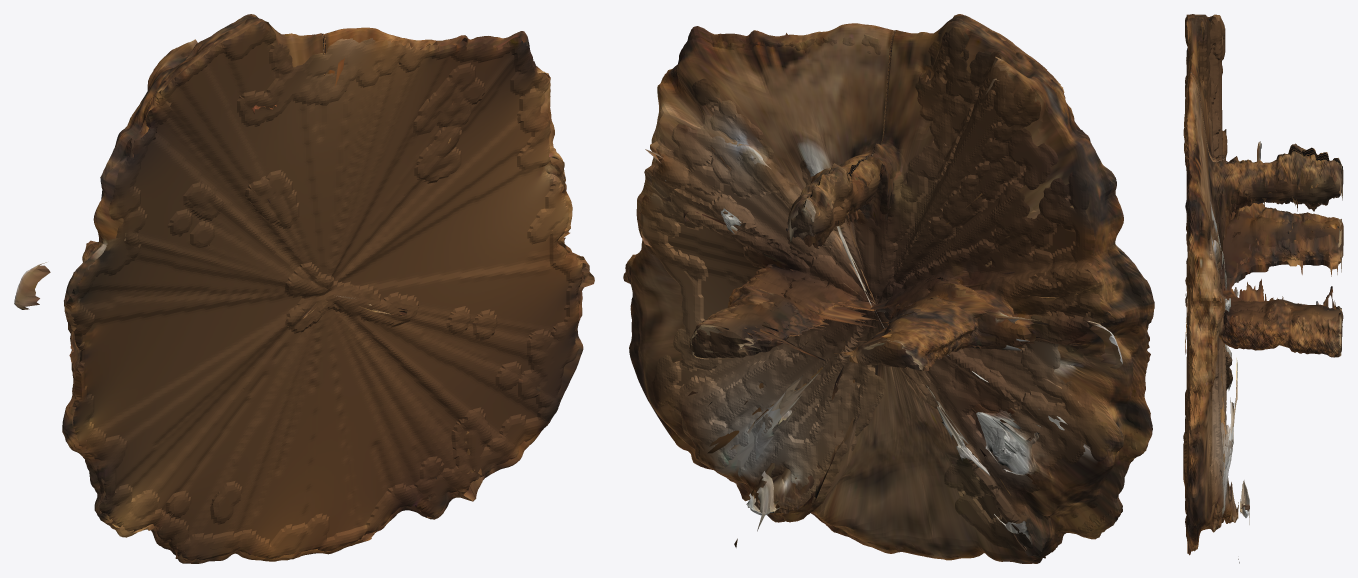
File: volume2_mesh.glb
3 renders of one model, left to right at view 1: azimuth 30°, elevation 25°; view 2: azimuth 150°, elevation 25°; view 3: azimuth 270°, elevation 25°, orthographic. The views are drawn at different scales.
Parts seen in each view (by area): view 1: fill, ipn; view 2: fill, ipn; view 3: ipn, fill.
Part boxes in pixels (x1=…): fill: x1=66, y1=16, x2=583, y2=560; ipn: x1=14, y1=14, x2=594, y2=563; fill: x1=629, y1=15, x2=1147, y2=562; ipn: x1=623, y1=14, x2=1154, y2=563; ipn: x1=1185, y1=14, x2=1342, y2=563; fill: x1=1183, y1=14, x2=1343, y2=544.
Bounding box in the file's own units: 1.88 × 1.86 × 0.5809.
Materials: 2 (1 with a texture image).
